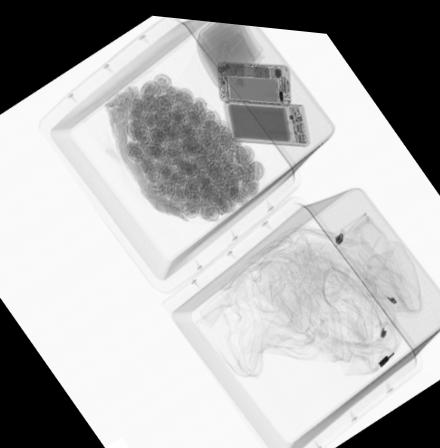Powerbank: (224, 96, 307, 139)
